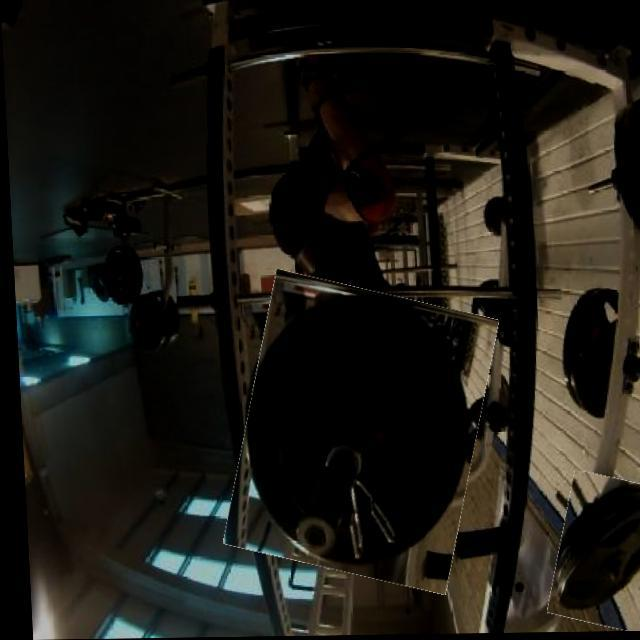barbell: (223, 280, 492, 588), (544, 478, 640, 635)
